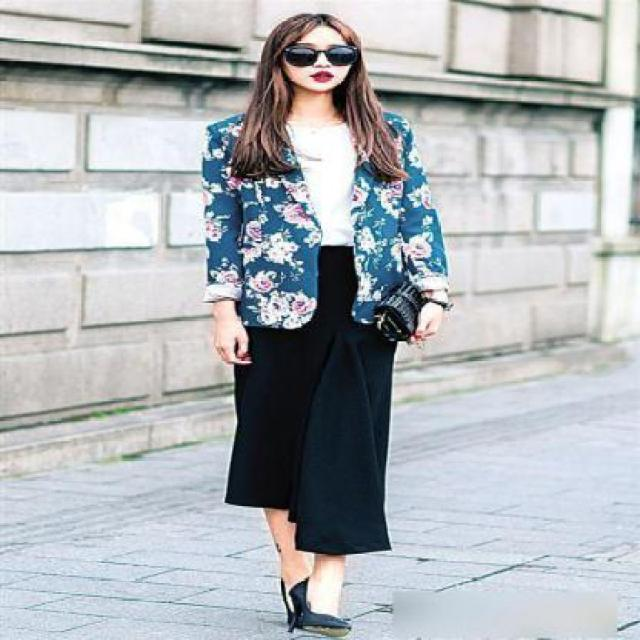Person: (202, 7, 423, 636)
